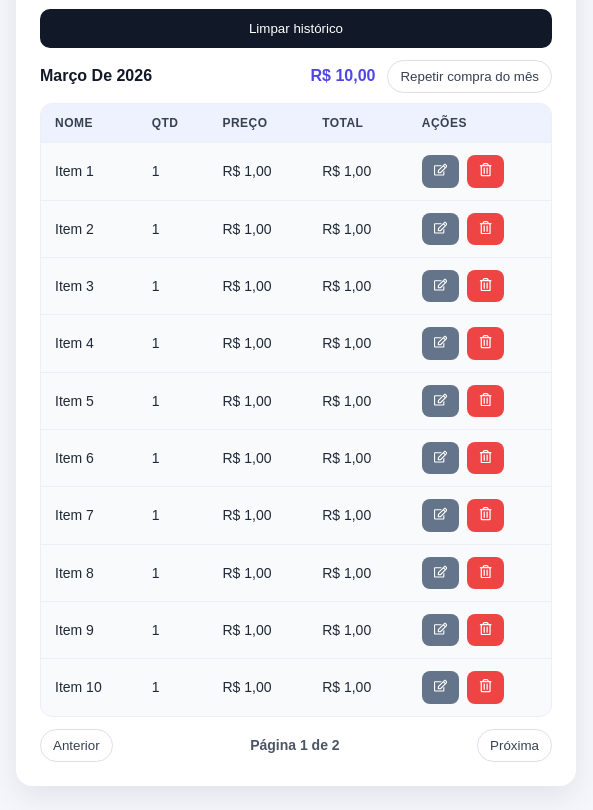
Shopping app › paginates history items with 10 items per page
(page scrolled)
Expected: the text "Página 1 de 2" is shown, x1=250 y1=737 x2=340 y2=753
Expected: the cell "Item 1" is shown, x1=41 y1=143 x2=138 y2=200
Click the button "Próxima": x=515, y=745 x1=477 y1=729 x2=552 y2=762
(page scrolled)
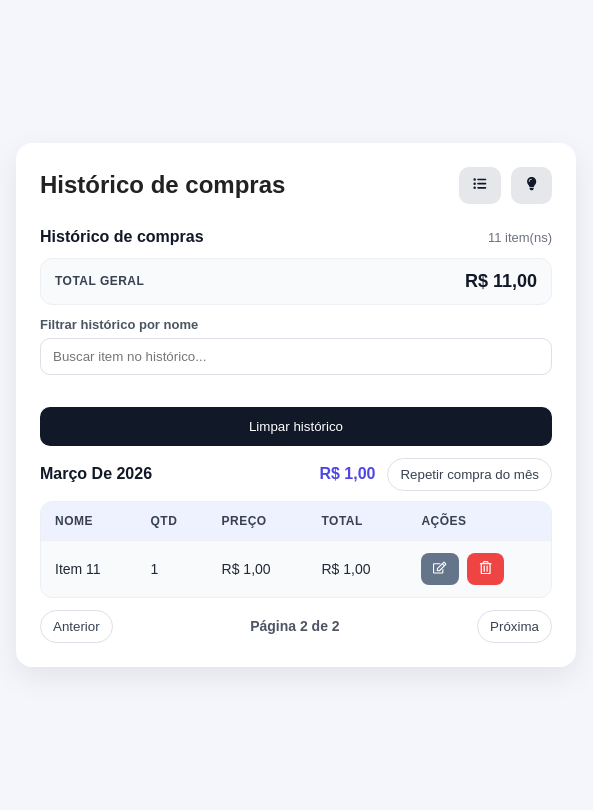
Now the text "Página 2 de 2" is shown, box x1=250 y1=618 x2=340 y2=634
Now the cell "Item 11" is shown, box x1=41 y1=540 x2=136 y2=597
